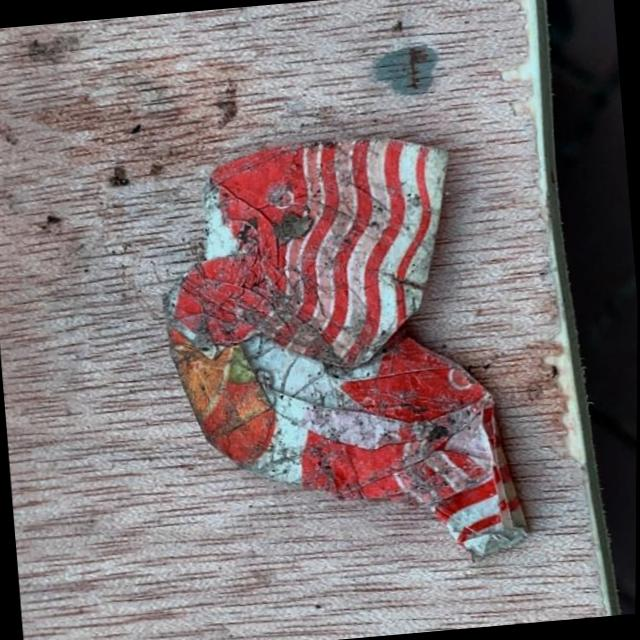Plastic: (145, 114, 537, 592)
